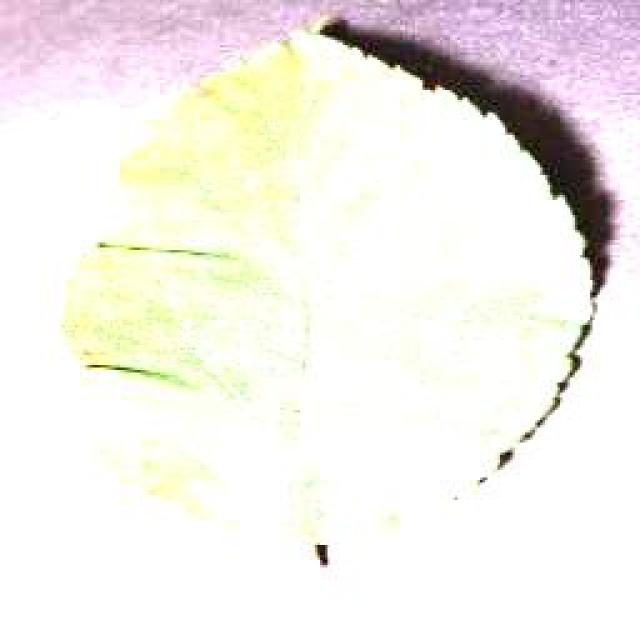apple scab disease: (58, 10, 618, 570)
